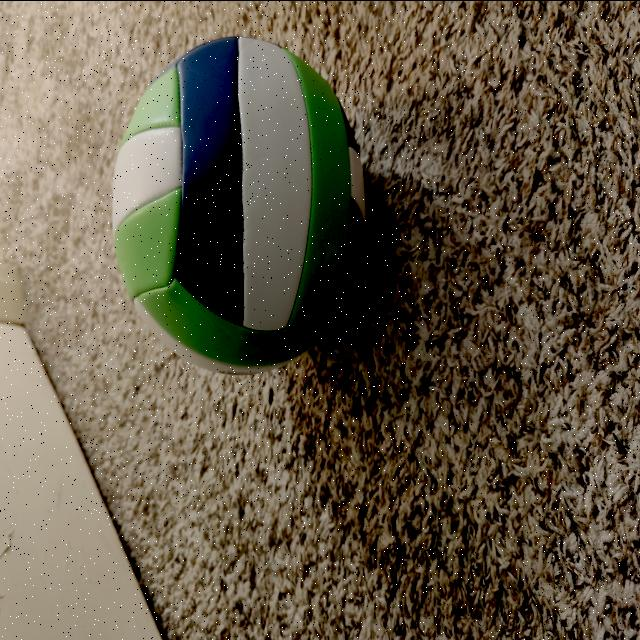ball: (116, 38, 363, 370)
